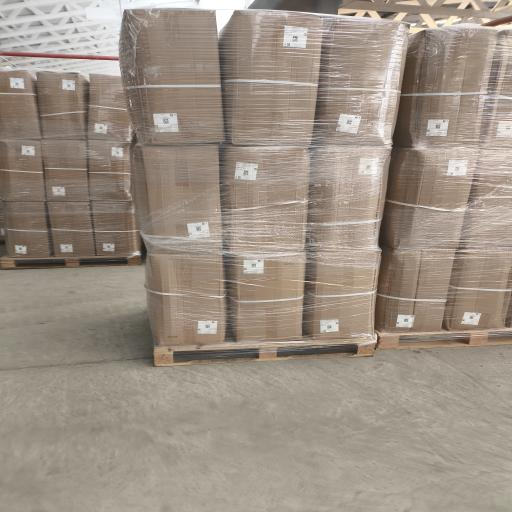pallet: (154, 340, 374, 366), (376, 329, 511, 349), (0, 255, 140, 269)
